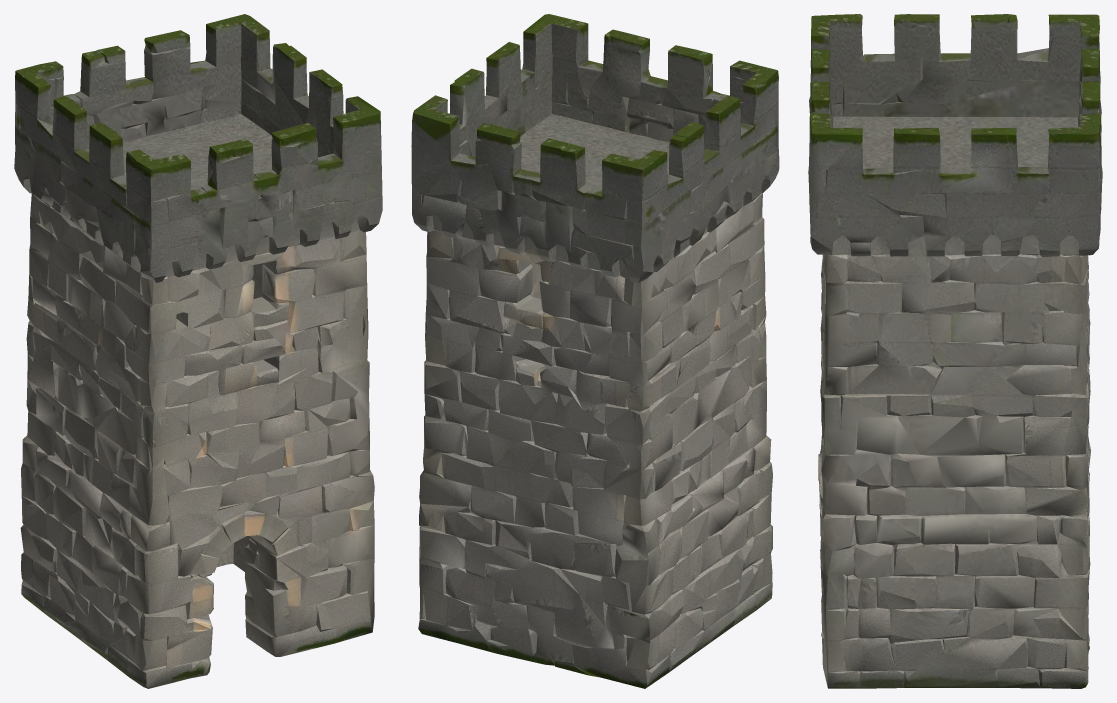
File: tower.glb
3 renders of one model, left to right at view 1: azimuth 30°, elevation 25°; view 2: azimuth 150°, elevation 25°; view 3: azimuth 270°, elevation 25°, orthographic. The views are drawn at different scales.
Size of the model in its own units: 0.8916 by 1.9 by 0.912.
1 material, 1 textured.
